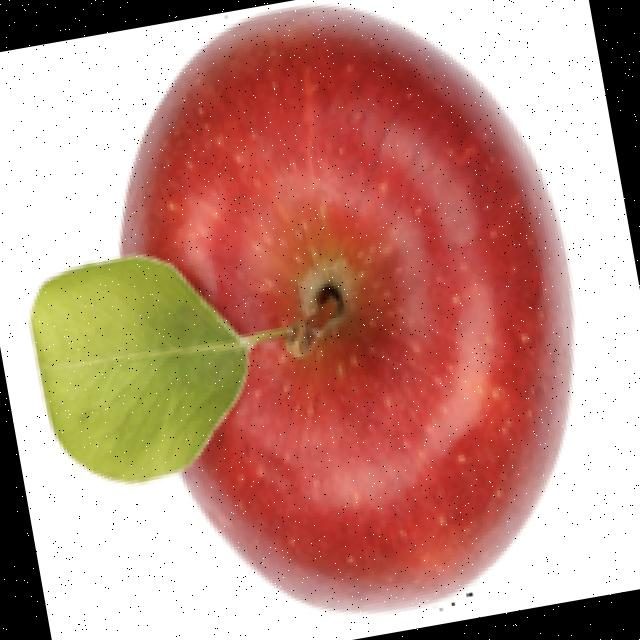apple: (24, 0, 576, 616)
